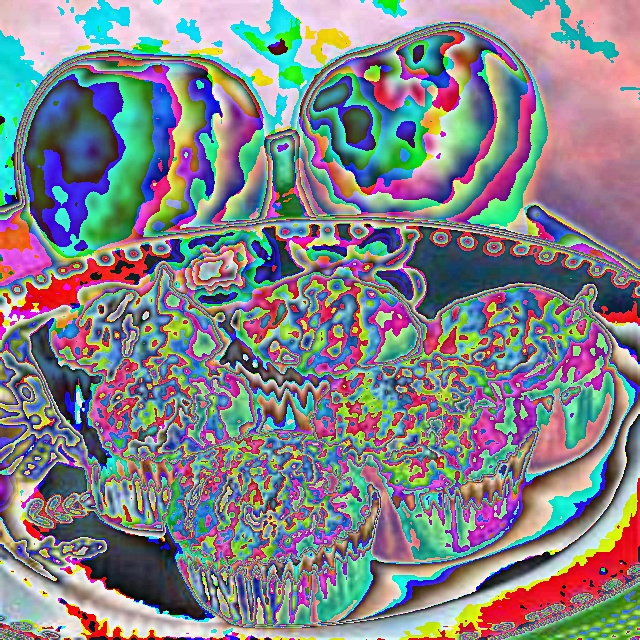background: (28, 260, 617, 624), (257, 18, 549, 234), (13, 50, 272, 262)
